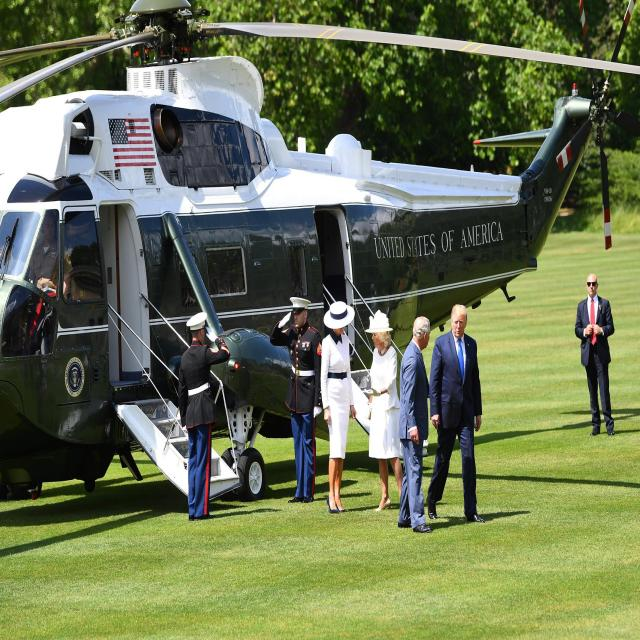helicopter: (8, 27, 623, 526)
